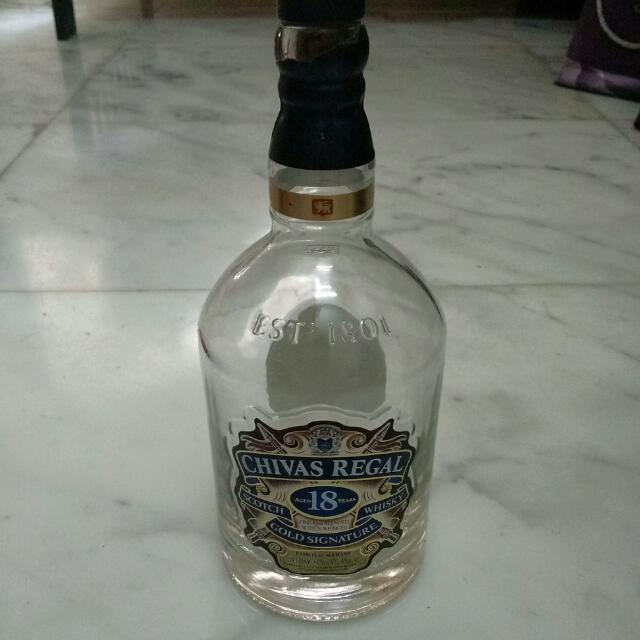Chivas Regal: (188, 2, 454, 627)
